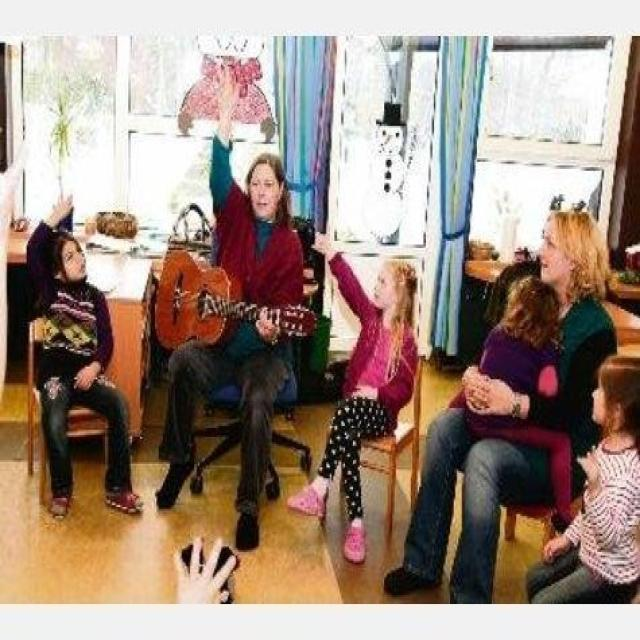guitar: (152, 247, 318, 357)
